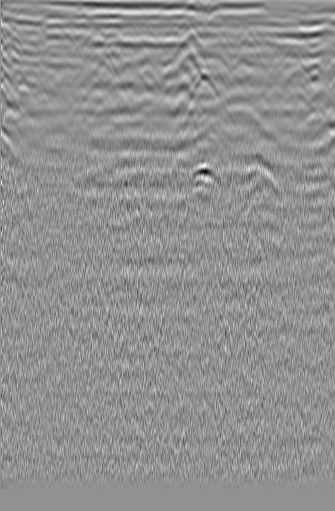가스: (187, 159, 219, 186)
상수: (280, 40, 311, 64)
오수: (15, 39, 41, 65)
우수: (163, 28, 200, 66)
